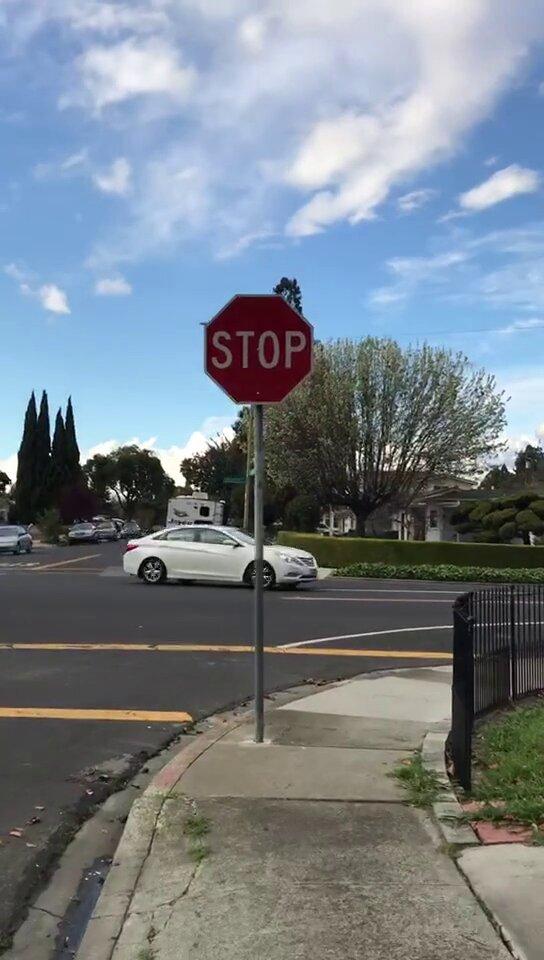stop_sign: (206, 295, 312, 405)
